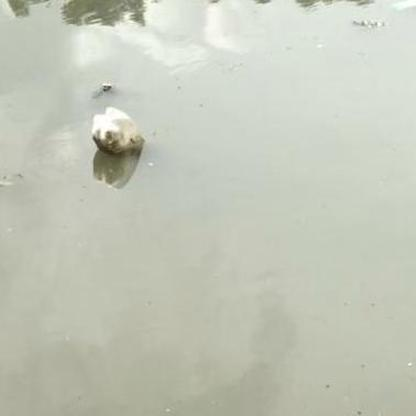plastic bottle: (92, 106, 143, 153)
